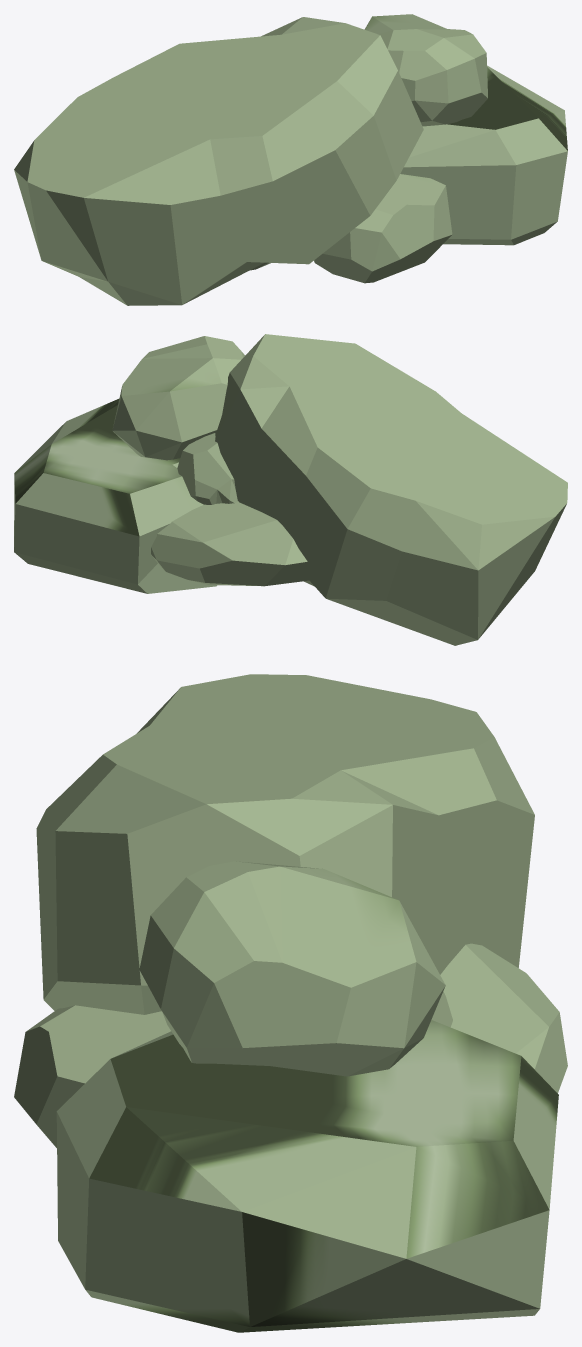
File: EA_Swamp_RockBig_02c.glb
The picture shows the model from 3 angles, top to bottom: view 1: azimuth 30°, elevation 25°; view 2: azimuth 150°, elevation 25°; view 3: azimuth 270°, elevation 25°; orthographic projection. The views are drawn at different scales.
Visible parts, largest first — view 1: EA_Swamp_RockBig_02c; view 2: EA_Swamp_RockBig_02c; view 3: EA_Swamp_RockBig_02c.
Boxes of the visible parts, left/top/right/bottom form: EA_Swamp_RockBig_02c: left=14, top=14, right=567, bottom=305; EA_Swamp_RockBig_02c: left=14, top=334, right=567, bottom=645; EA_Swamp_RockBig_02c: left=14, top=674, right=567, bottom=1332.
Bounding box in the file's own units: 12.99 × 5.18 × 6.51.
Materials: 1 (1 with a texture image).
